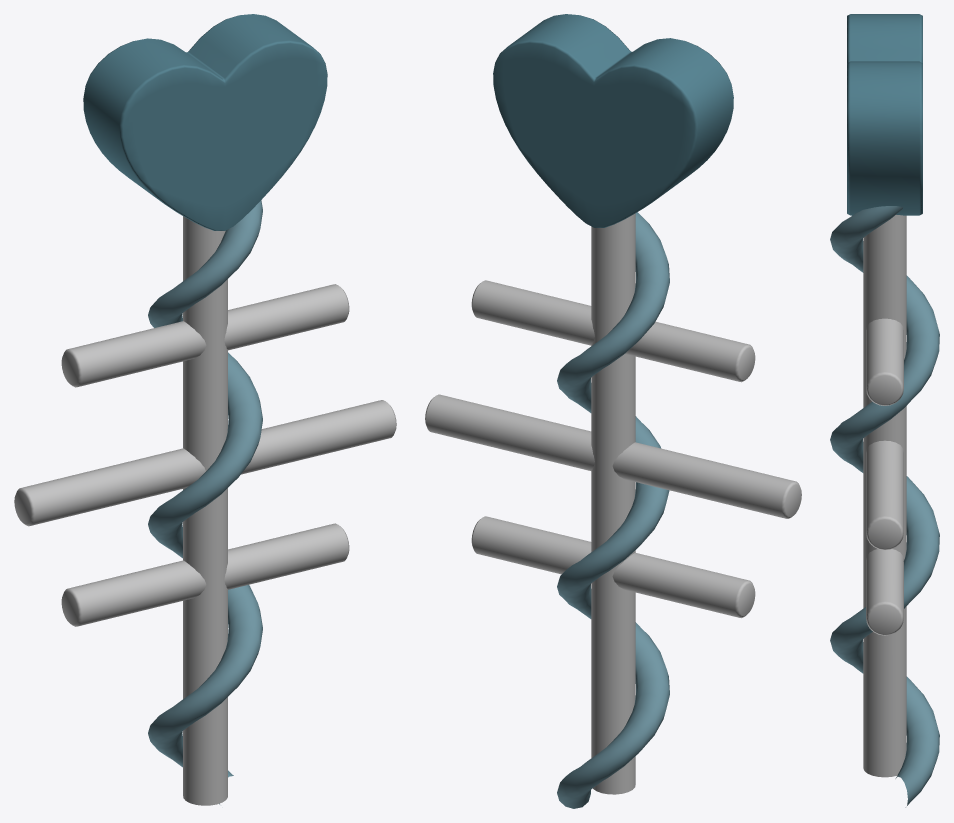
Rendered from Town_17_Antenna_1.glb.
The picture shows the model from 3 angles, left to right: view 1: azimuth 30°, elevation 25°; view 2: azimuth 150°, elevation 25°; view 3: azimuth 270°, elevation 25°; orthographic projection. The views are drawn at different scales.
Parts seen in each view (by area): view 1: Town_17_Antenna_1; view 2: Town_17_Antenna_1; view 3: Town_17_Antenna_1.
Boxes of the visible parts, x1,y1,x2,y2 form: Town_17_Antenna_1: (14, 14, 396, 805); Town_17_Antenna_1: (425, 14, 801, 808); Town_17_Antenna_1: (830, 14, 939, 807).
Size of the model in its own units: 1.38 by 2.81 by 0.3734.
Materials: 1 (1 with a texture image).
